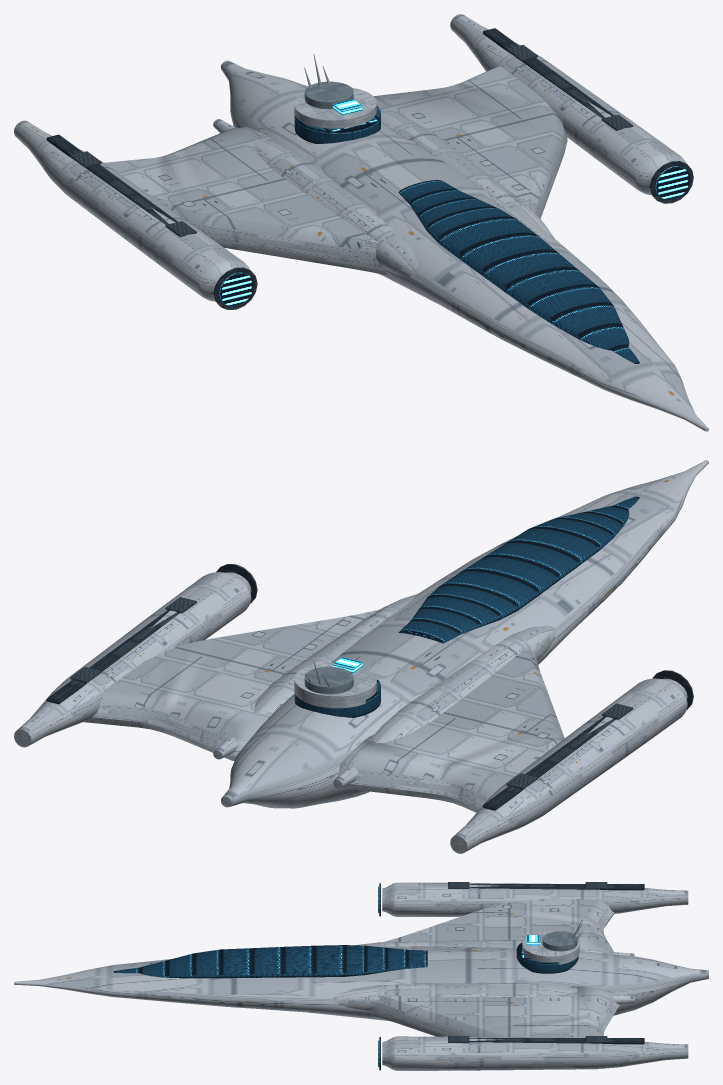
File: alliance_courier_recreated_dock_probe.glb
3 renders of one model, top to bottom at view 1: azimuth 30°, elevation 25°; view 2: azimuth 150°, elevation 25°; view 3: azimuth 270°, elevation 25°, orthographic. The views are drawn at different scales.
Visible parts, largest first — view 1: alliance_courier_recreated; view 2: alliance_courier_recreated; view 3: alliance_courier_recreated.
Part boxes in pixels (x1,y1,x2,y2): alliance_courier_recreated: (14,14,708,431); alliance_courier_recreated: (14,460,708,853); alliance_courier_recreated: (14,882,708,1070).
Bounding box in the file's own units: 1.11 × 0.3117 × 1.89.
Materials: 1 (1 with a texture image).
